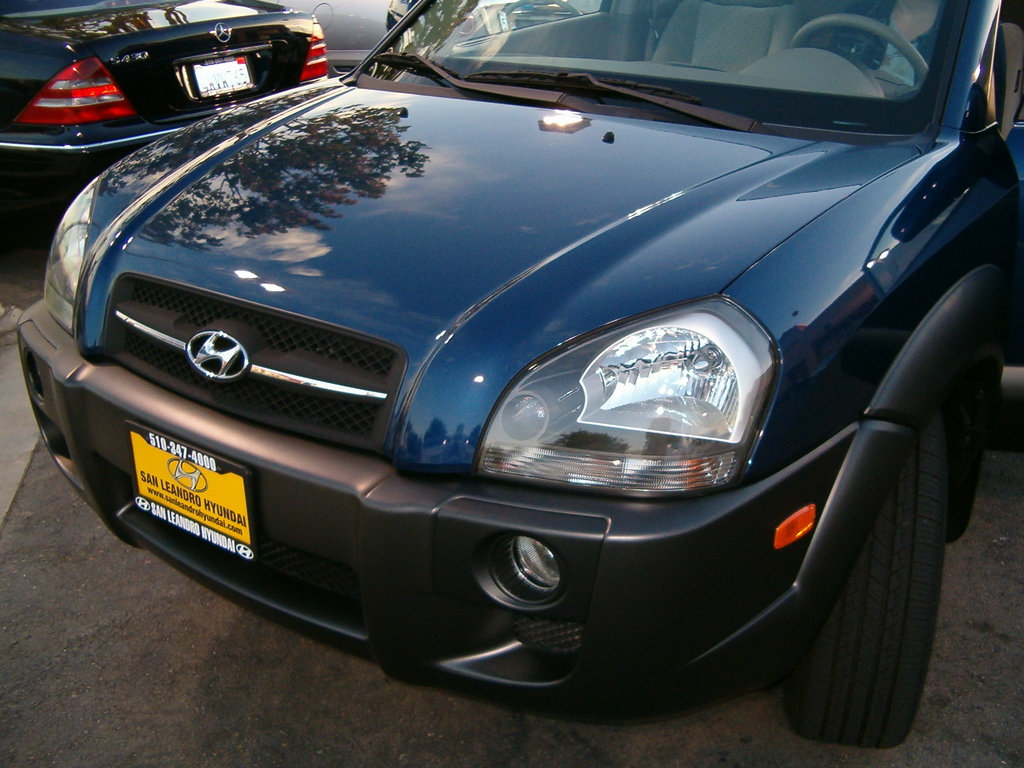Car: (14, 0, 1024, 746), (1, 0, 325, 163), (259, 0, 389, 78)
